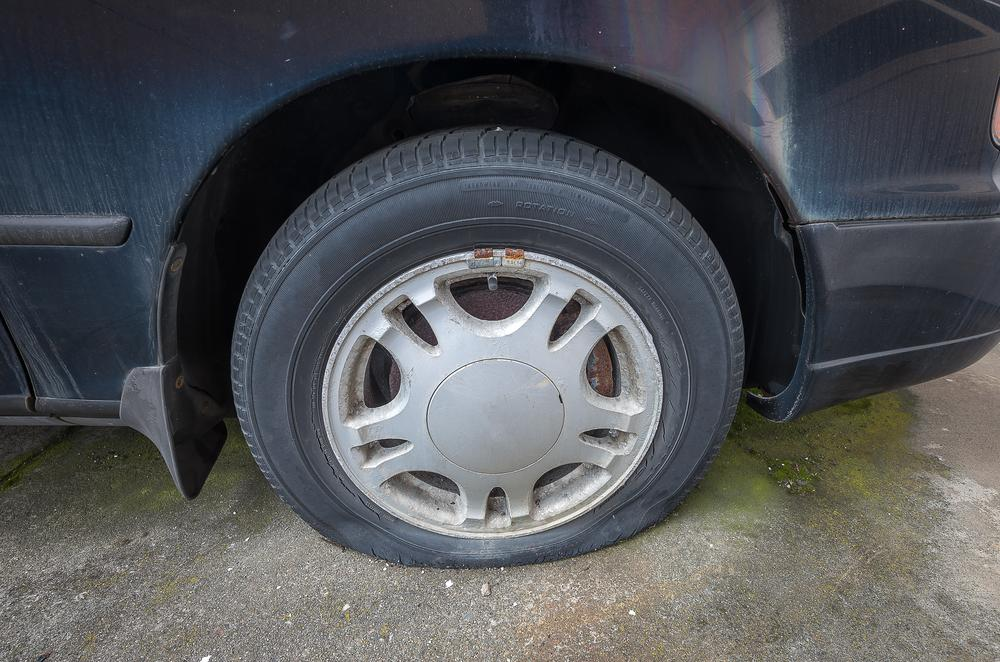tire flat: (231, 124, 747, 569)
